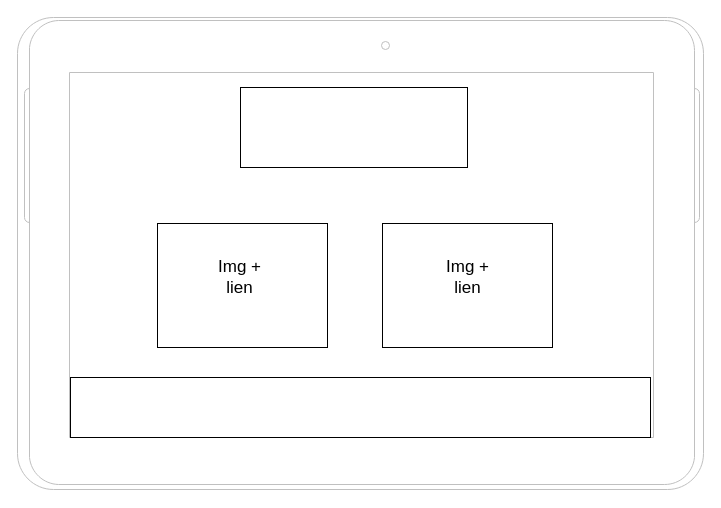
The diagram is 721 pixels wide and 508 high, and some of its shapes have lost their labels. The centre of each missing label's shape, as x and y in pixels:
"Footer" goes at [360,407].
"NAV" goes at [354,127].
